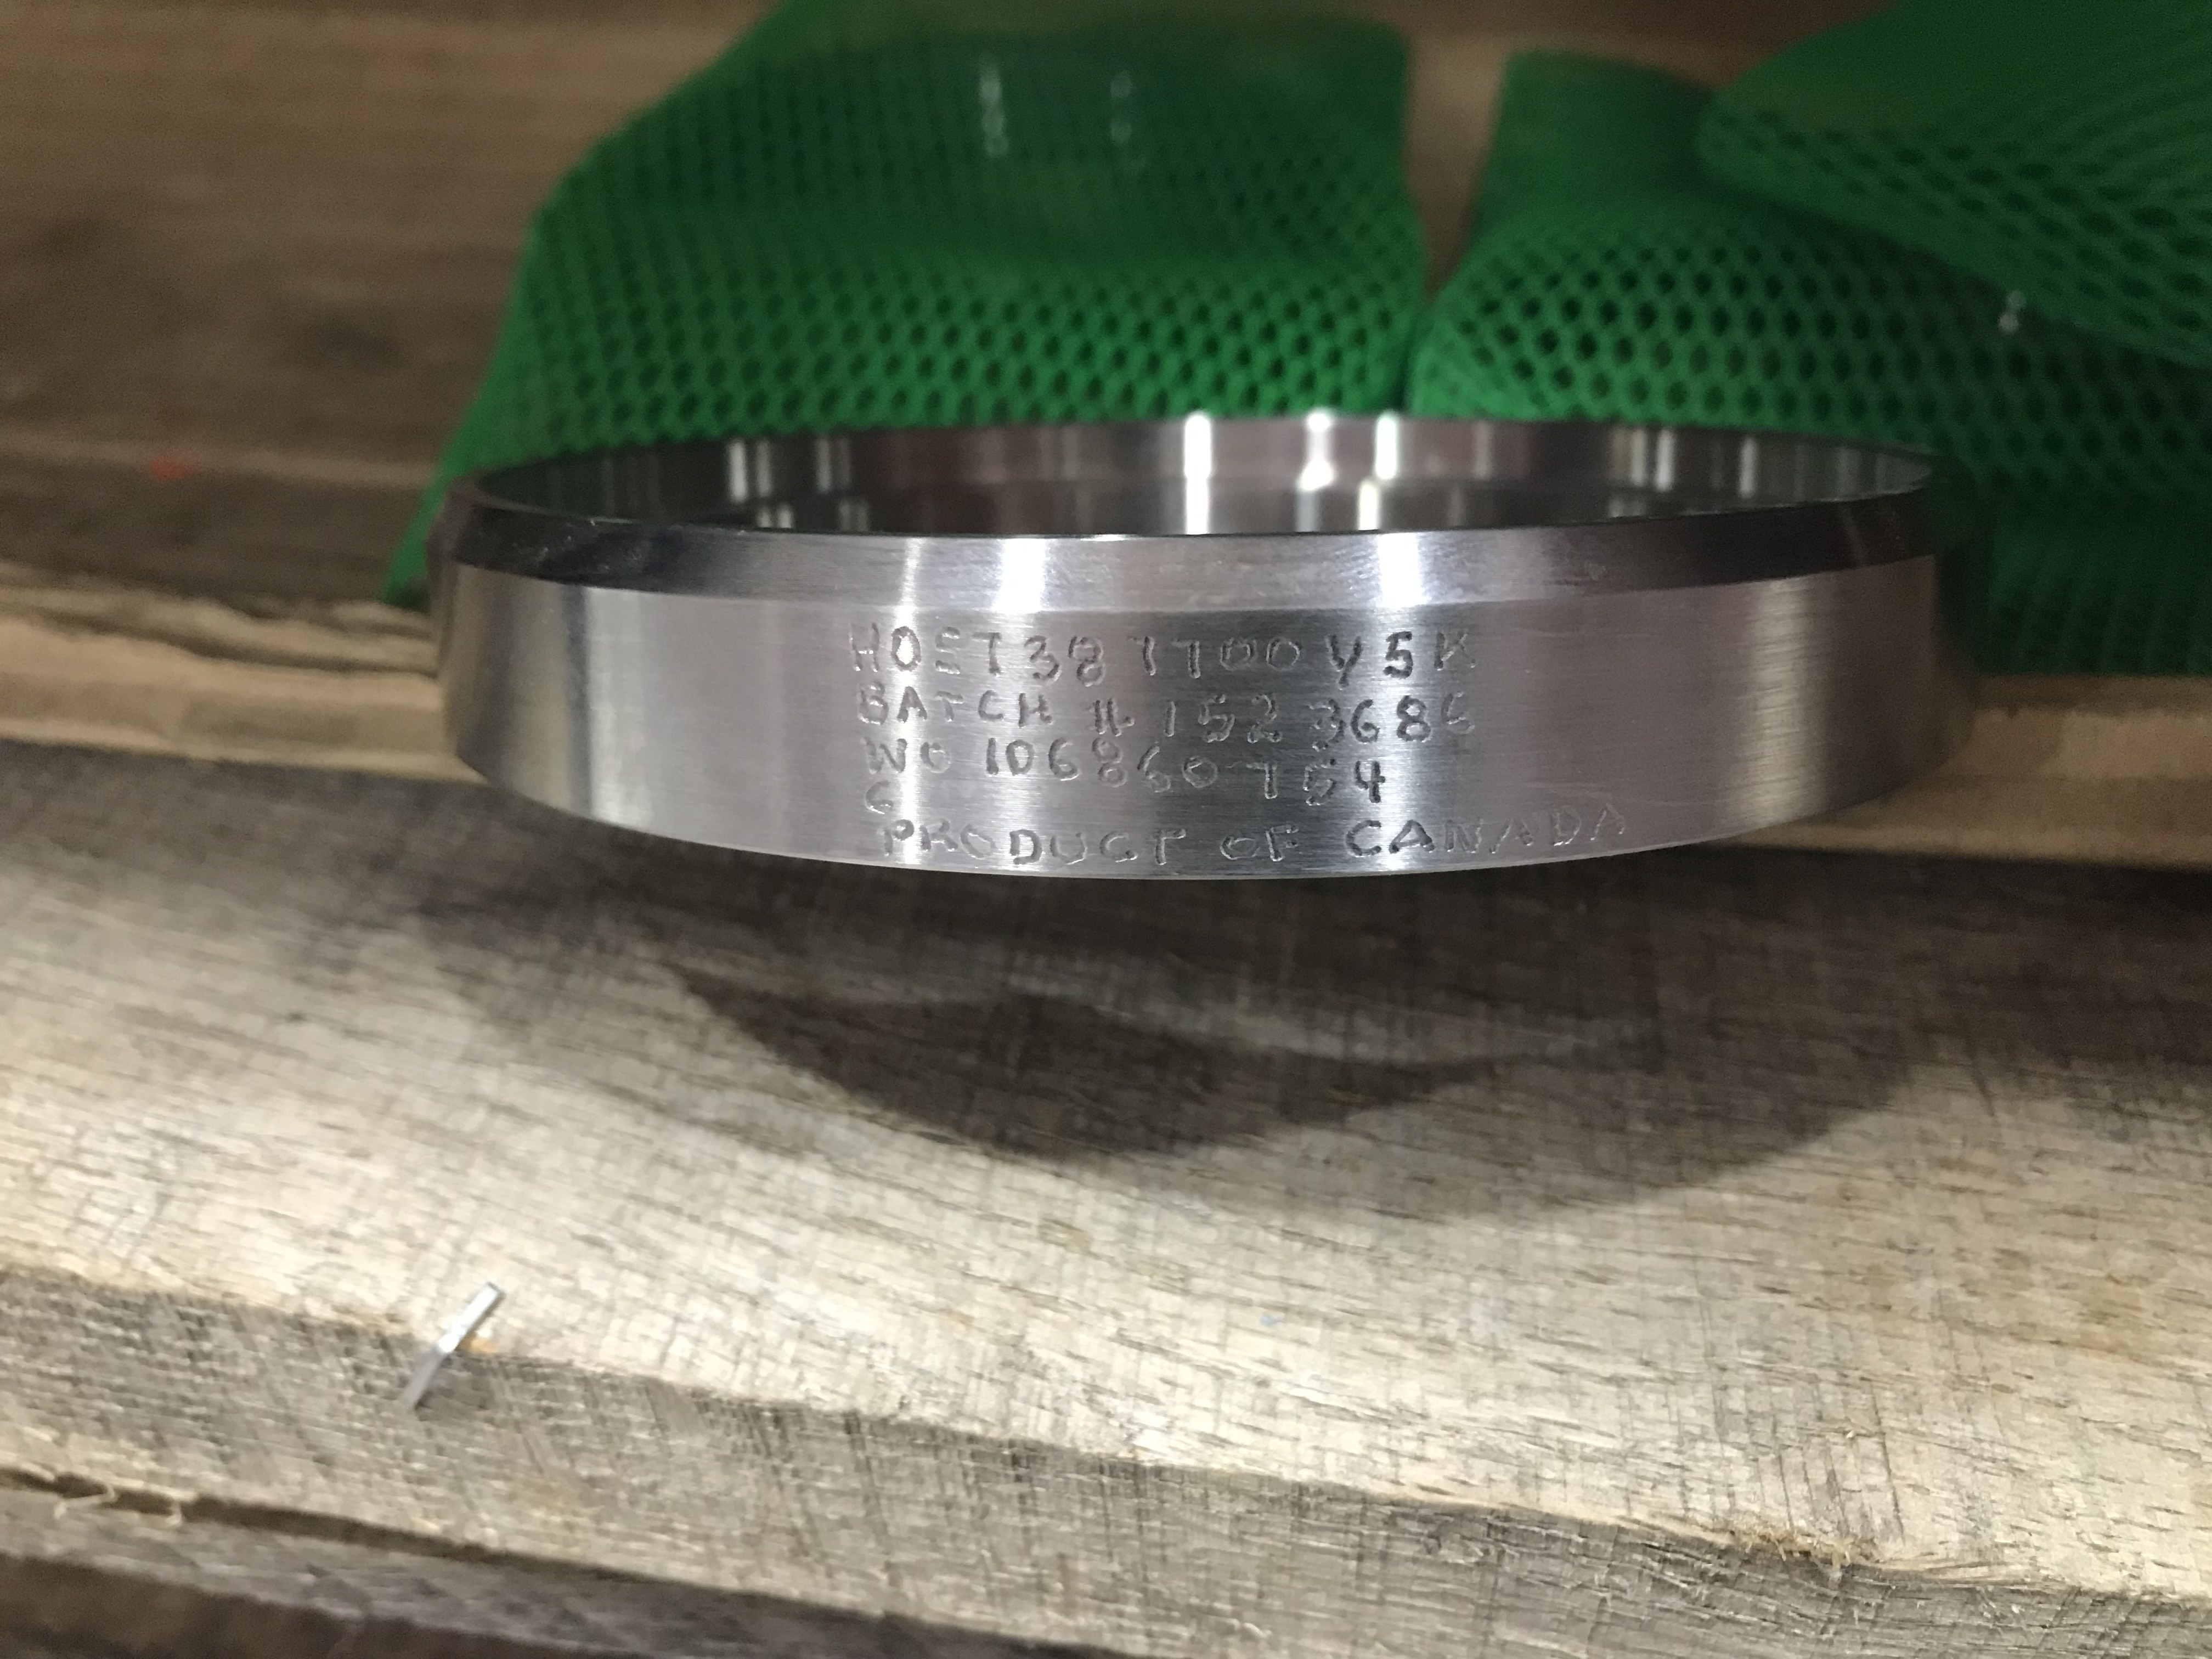character: (1423, 626, 1486, 681), (1083, 732, 1130, 793), (1301, 695, 1348, 755), (1068, 627, 1113, 688), (1324, 629, 1367, 692), (1021, 629, 1068, 687), (1134, 823, 1188, 871), (1122, 631, 1169, 687), (1195, 690, 1240, 748), (857, 734, 914, 779), (1379, 624, 1423, 683), (1487, 809, 1540, 857), (1296, 756, 1343, 810), (1385, 816, 1439, 863), (841, 617, 887, 673), (885, 622, 930, 676), (1245, 687, 1285, 748), (1083, 695, 1139, 739), (1163, 633, 1209, 683), (1581, 798, 1632, 843), (1214, 624, 1258, 676), (1392, 694, 1433, 748), (1440, 687, 1480, 742), (1258, 823, 1306, 868), (1437, 816, 1487, 859), (974, 624, 1012, 680), (1350, 758, 1397, 803), (1097, 826, 1144, 871), (1339, 816, 1386, 861), (1540, 803, 1583, 852), (1137, 739, 1174, 796), (934, 622, 972, 676), (928, 683, 972, 730), (916, 810, 960, 857), (1042, 734, 1082, 784), (1244, 756, 1282, 809), (1263, 631, 1306, 676), (1043, 828, 1094, 866), (1177, 753, 1223, 795), (1014, 688, 1061, 728), (855, 678, 892, 728), (1346, 695, 1383, 746), (958, 821, 1001, 863), (1217, 830, 1264, 868), (894, 683, 935, 725), (1007, 828, 1047, 871), (918, 735, 958, 775), (1003, 735, 1038, 781), (972, 685, 1008, 725), (881, 819, 914, 863), (1158, 695, 1186, 744), (977, 734, 1005, 779)
